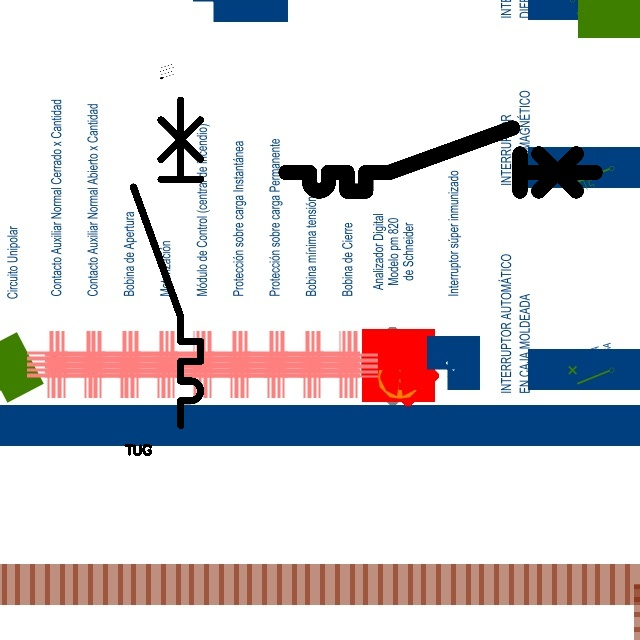interruptor_termomagnetico: (125, 91, 209, 433), (278, 120, 603, 199)
